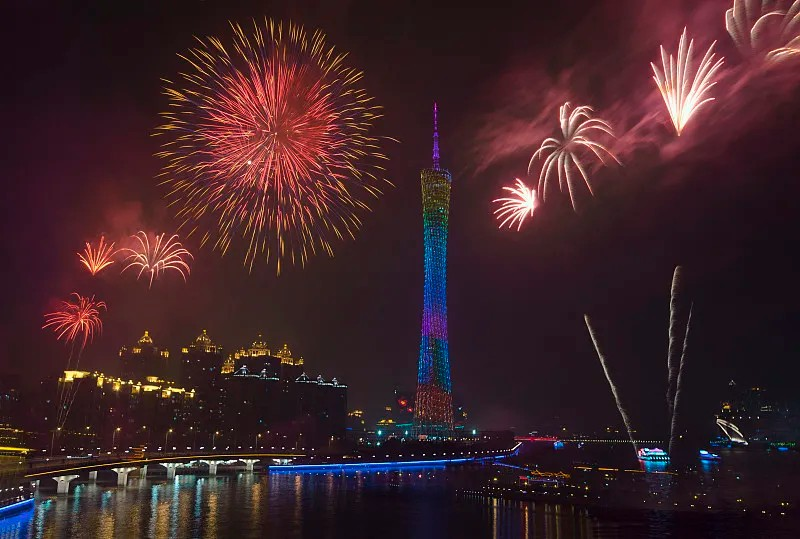Canton: (412, 102, 456, 428)
